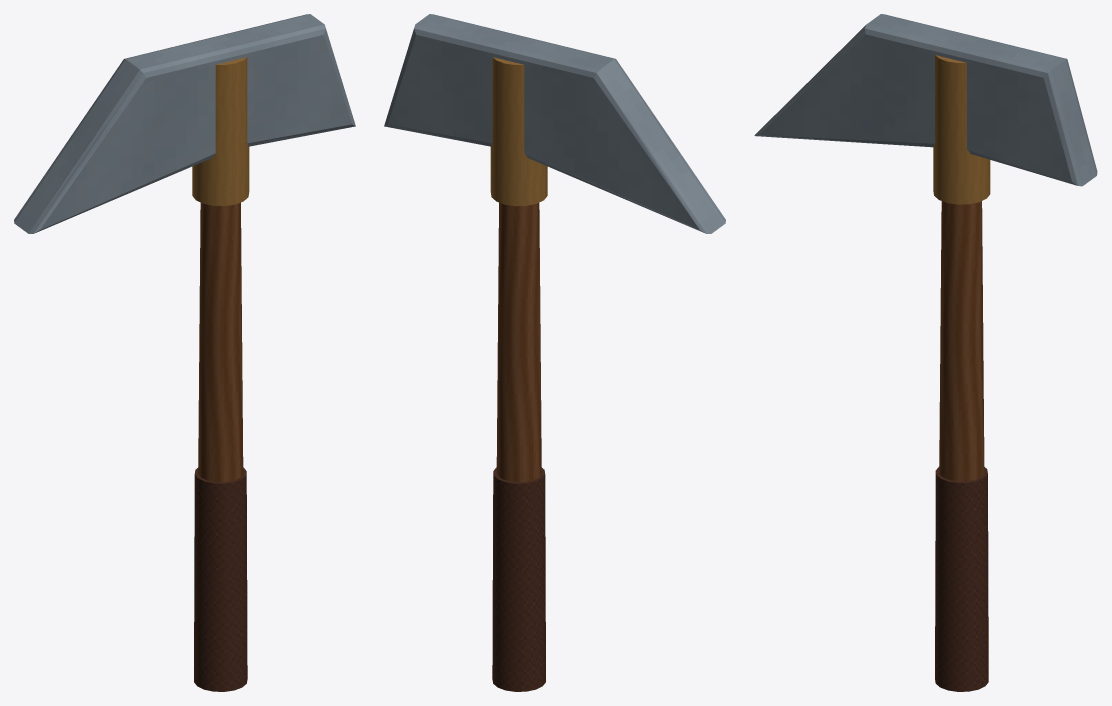
File: military-pick.lod1.glb
The picture shows the model from 3 angles, left to right: view 1: azimuth 30°, elevation 25°; view 2: azimuth 150°, elevation 25°; view 3: azimuth 330°, elevation 25°; orthographic projection.
Parts seen in each view (by area): view 1: steel.3, wood.0, leather.1, brass.2; view 2: steel.3, wood.0, leather.1, brass.2; view 3: steel.3, wood.0, leather.1, brass.2.
Part boxes in pixels (left/top/right/bottom): steel.3: left=14, top=14, right=355, bottom=233; wood.0: left=198, top=202, right=243, bottom=482; leather.1: left=194, top=467, right=247, bottom=691; brass.2: left=192, top=57, right=249, bottom=206; steel.3: left=384, top=14, right=725, bottom=233; wood.0: left=496, top=202, right=541, bottom=482; leather.1: left=492, top=467, right=545, bottom=691; brass.2: left=490, top=57, right=547, bottom=206; steel.3: left=754, top=14, right=1097, bottom=186; wood.0: left=939, top=201, right=984, bottom=481; leather.1: left=935, top=466, right=988, bottom=691; brass.2: left=933, top=55, right=990, bottom=204.
Size of the model in its own units: 0.4605 by 0.8588 by 0.07.
4 materials, 4 textured.
